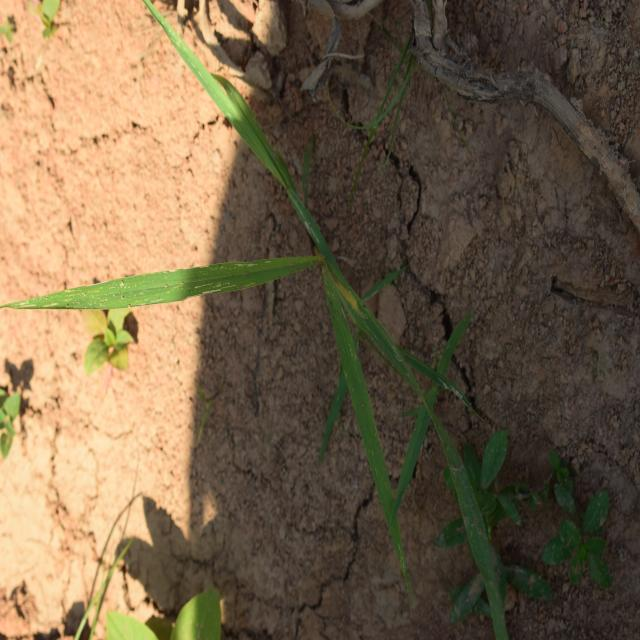green_foxtail: (124, 70, 406, 479)
